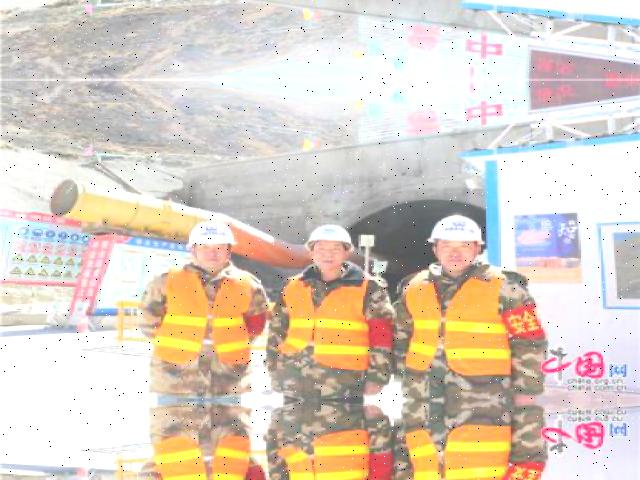Helmet: (420, 210, 487, 253), (182, 219, 244, 255), (296, 222, 356, 255)
